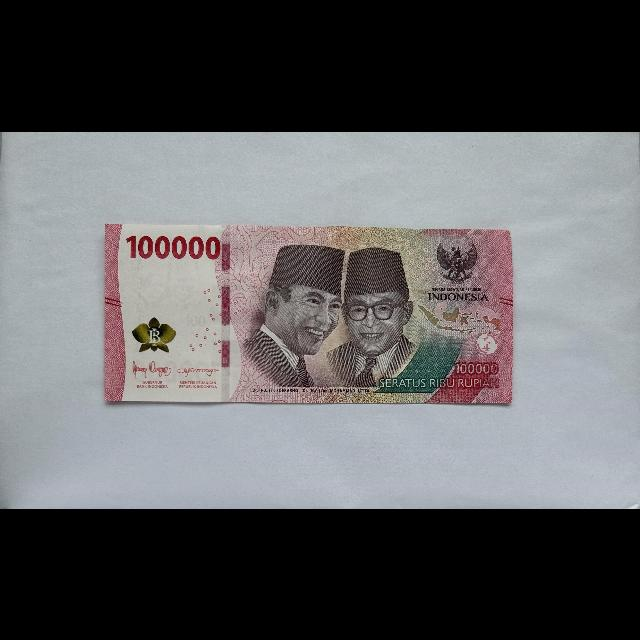Asli-100k: (104, 221, 515, 404)
Tinta-Asli-100k: (131, 316, 177, 354)
